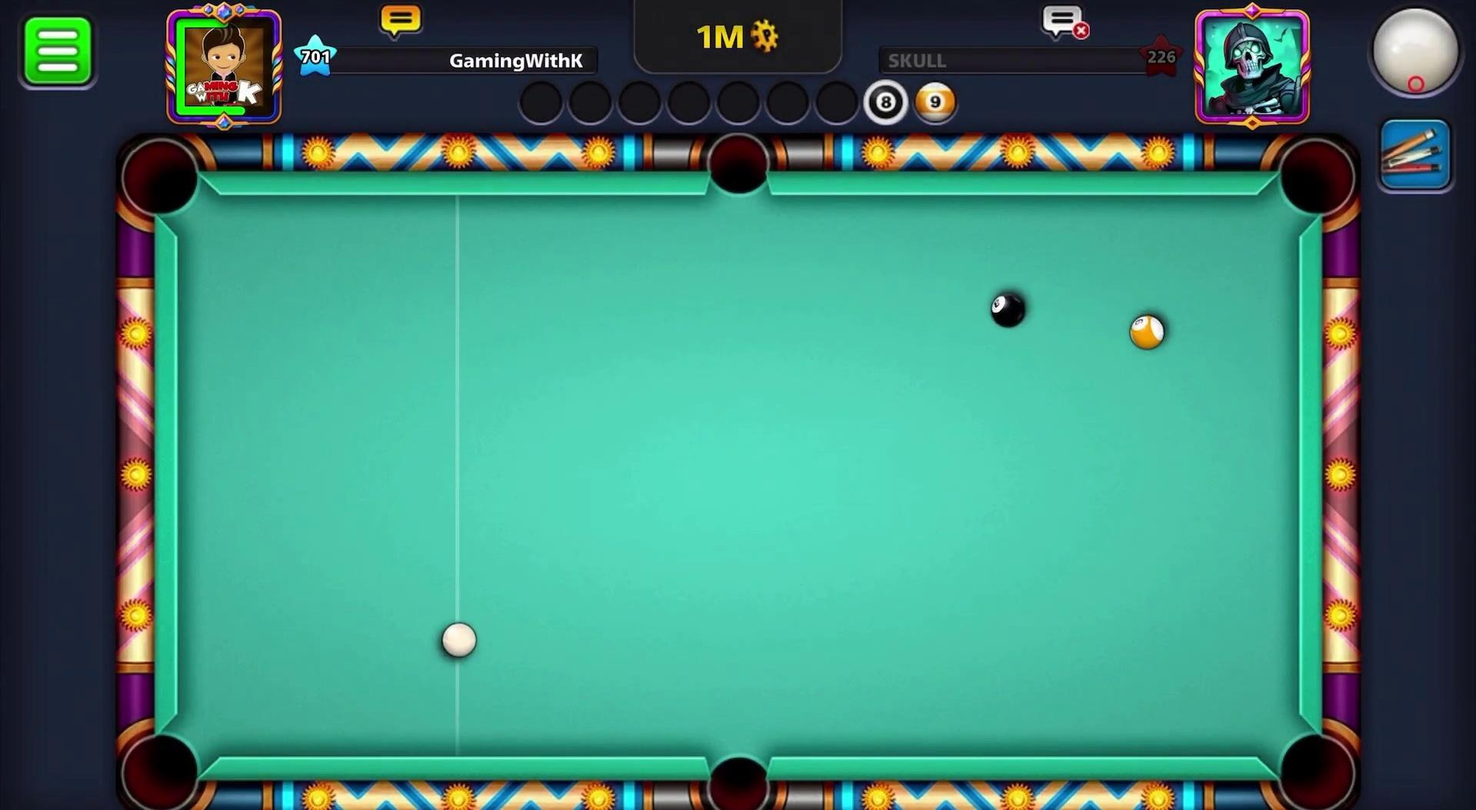Ball: (1128, 304, 1170, 359), (985, 284, 1031, 332)
Hole: (107, 128, 214, 231), (1267, 130, 1367, 232), (1264, 719, 1366, 809), (112, 722, 208, 809), (693, 128, 785, 211), (688, 736, 785, 809)
Play_Area: (177, 193, 1295, 755)
Spin: (1339, 0, 1475, 118)
White: (434, 618, 482, 665)
